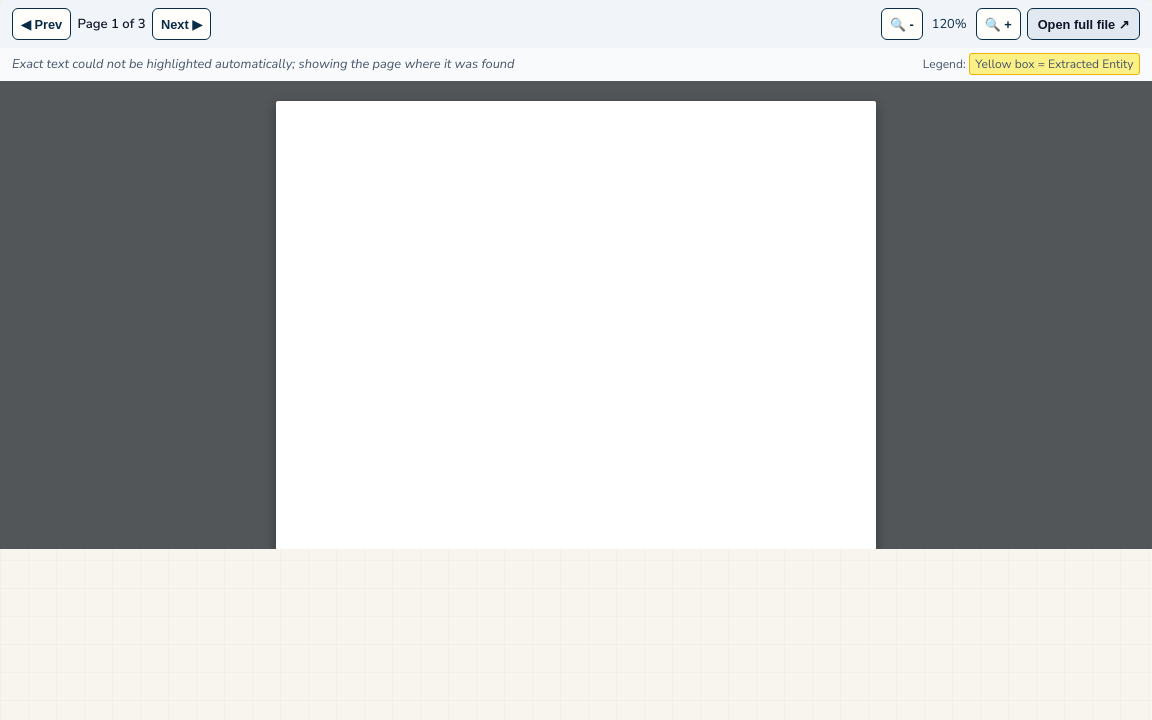
PdfEvidenceViewer component › handles page navigation and zoom
Expected: the text "Page 1 of 3" is shown, [78,14,146,34]
// Next page
Click the button with aria-label "Next Page" at (181, 24), box [152,8,211,40]
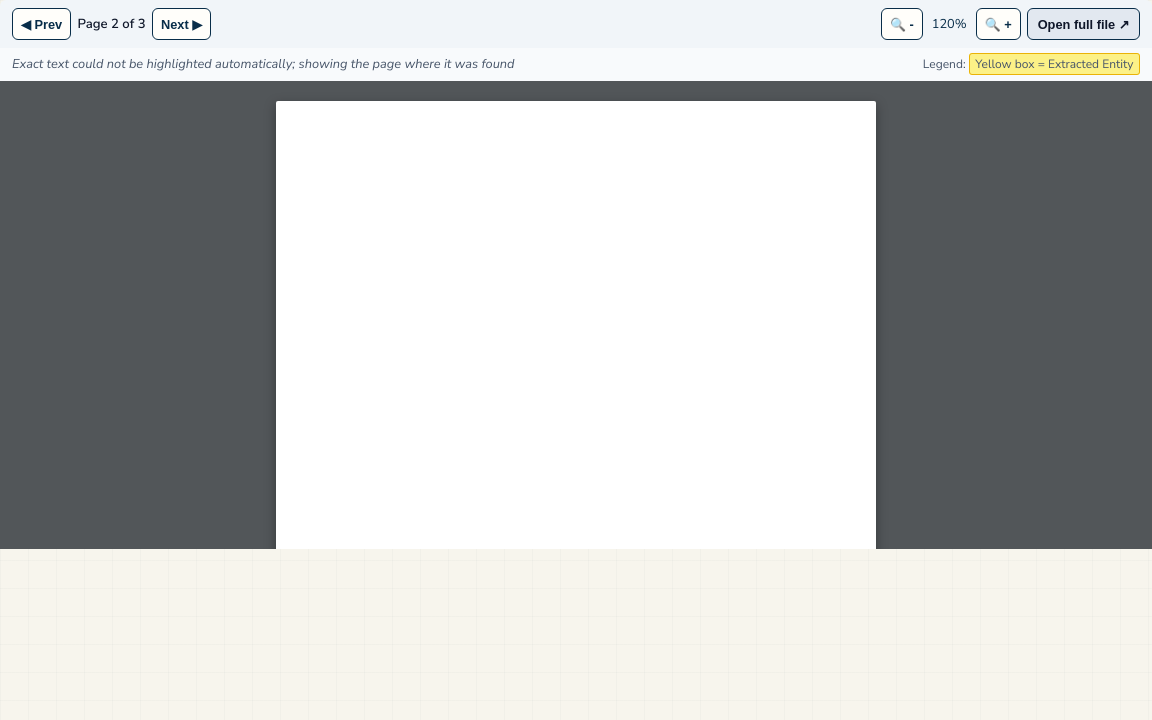
Now the text "Page 2 of 3" is shown, box [78,14,146,34]
//  Zoom in
Click the button named "Zoom In" at (998, 24), box [976,8,1021,40]
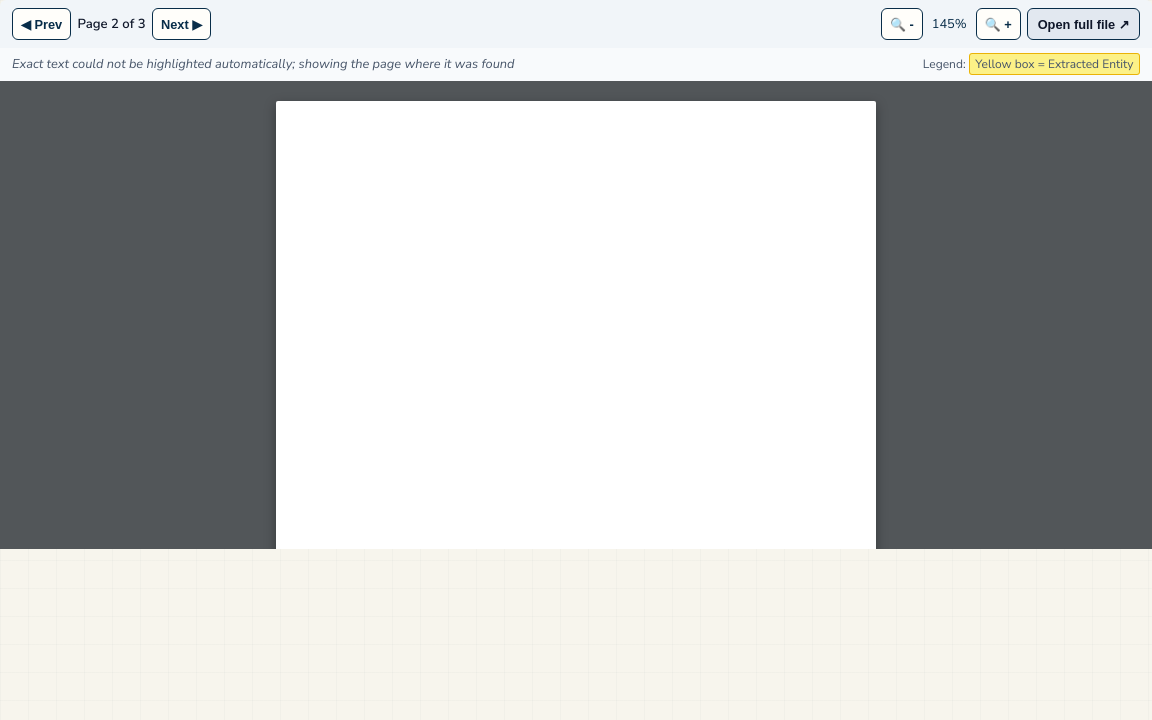
Now the text "145%" is shown, box [929,14,969,34]
